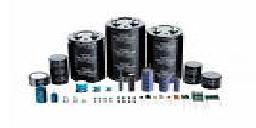Electrolytic Capacitor: (147, 23, 196, 74), (106, 14, 147, 73), (68, 25, 107, 80), (47, 49, 72, 84), (184, 60, 204, 85), (202, 70, 228, 89), (139, 68, 156, 91), (35, 86, 50, 109), (159, 69, 171, 97), (27, 69, 49, 84), (74, 80, 94, 94), (191, 90, 204, 105), (51, 92, 61, 111), (127, 75, 136, 93)
